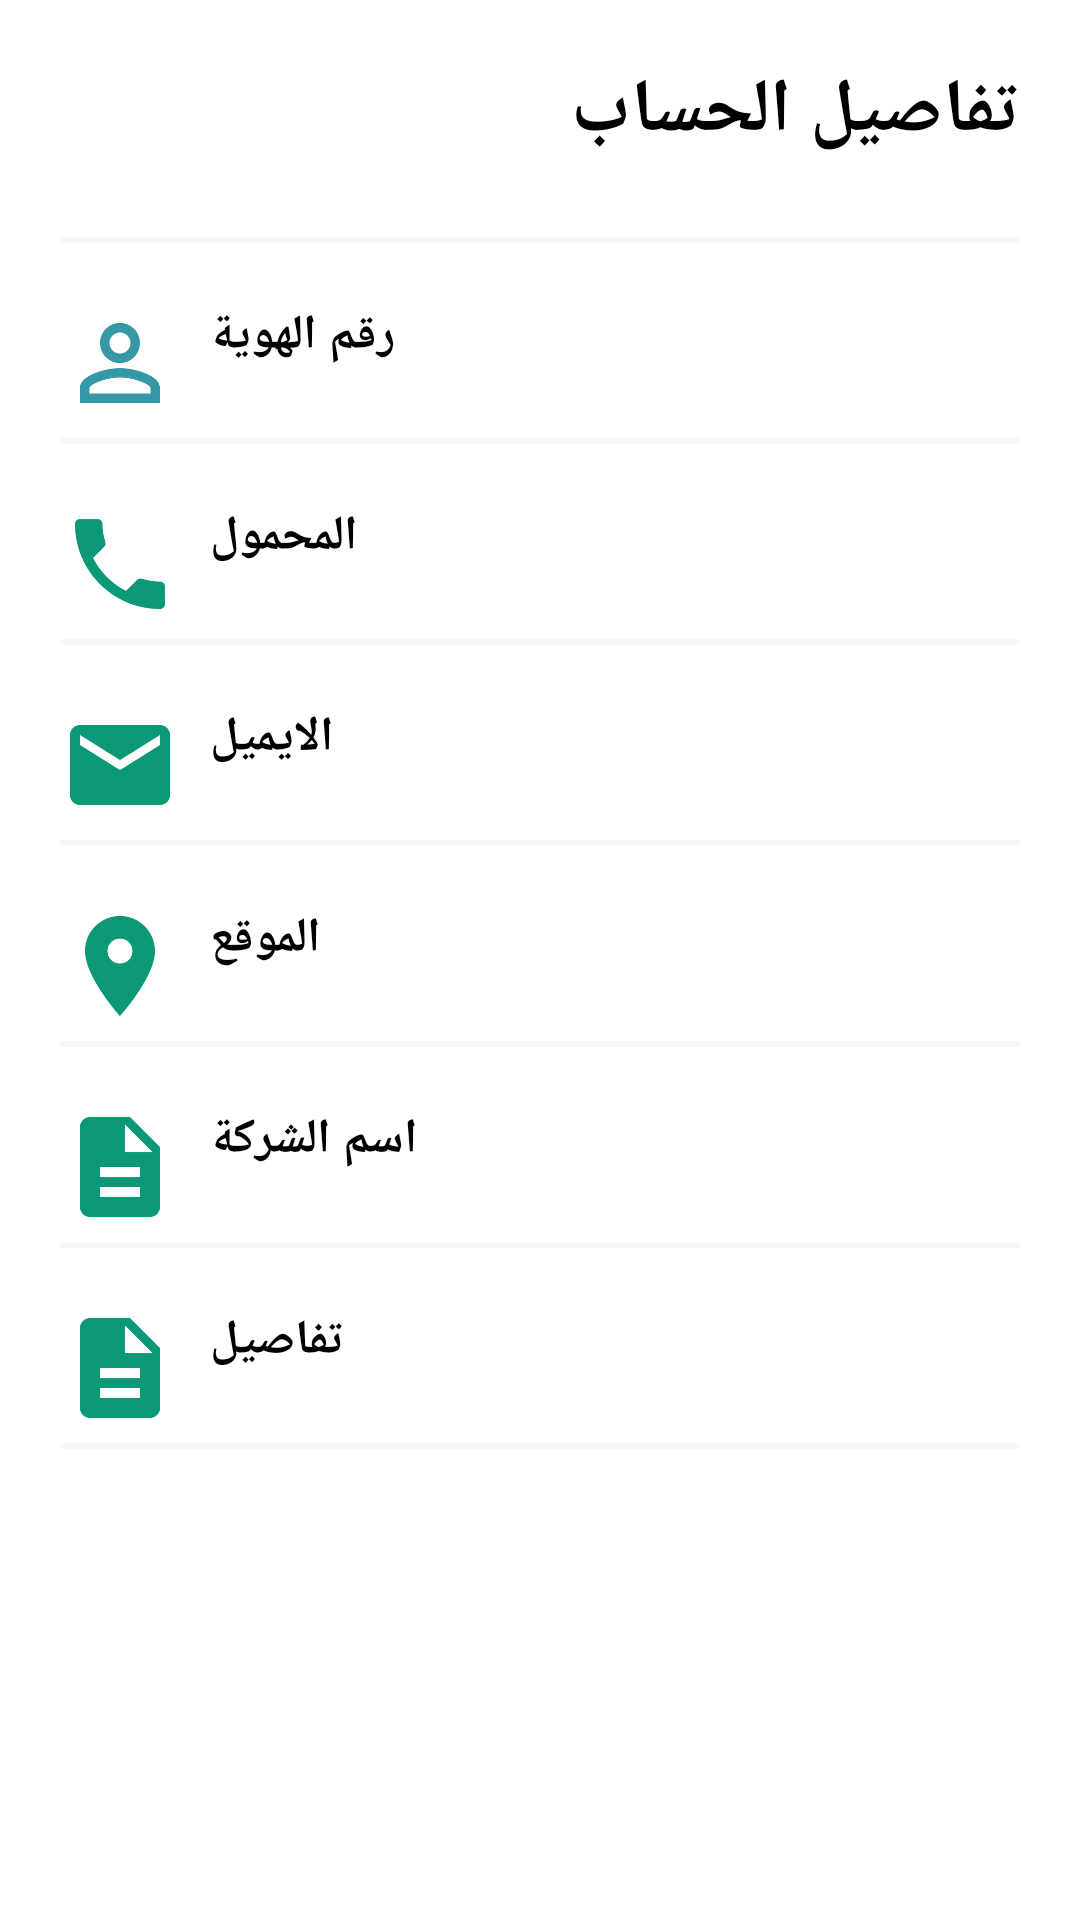

Icon click points for this 1080*1920 phone screenshot, format (x,y):
description: (120,1167), (120,1368)
email: (120,765)
location on: (120,966)
perm identity: (120,363)
phone: (120,564)
